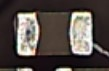COMP: (10, 8, 97, 59)
GAP: (56, 42, 93, 71), (15, 42, 33, 71)
STAN: (93, 39, 109, 57)
